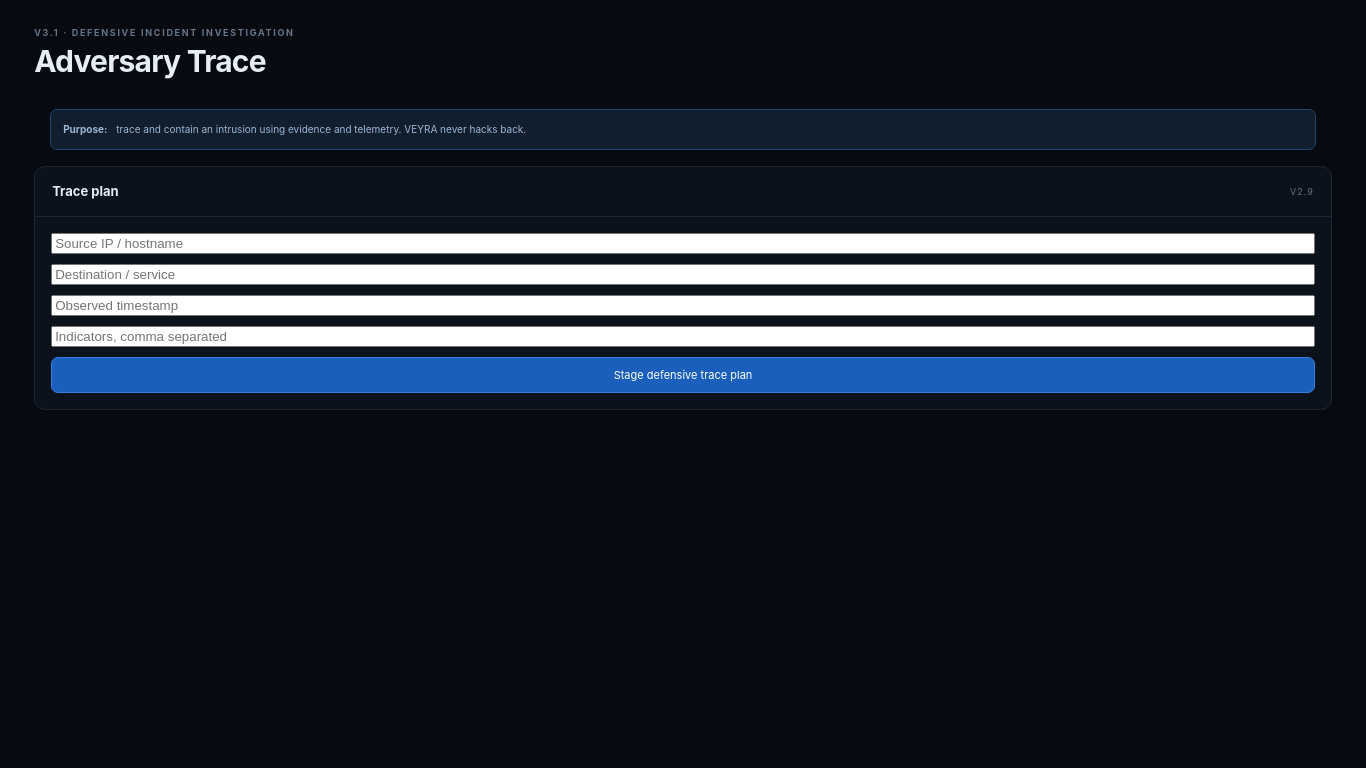
Test case: V31AdversaryTraceView › stages a trace plan on button click
The width and height of the screenshot is (1366, 768).
Type "10.0.0.5" into the field with placeholder "Source IP / hostname" at x=683, y=243, box [51,233,1315,254]
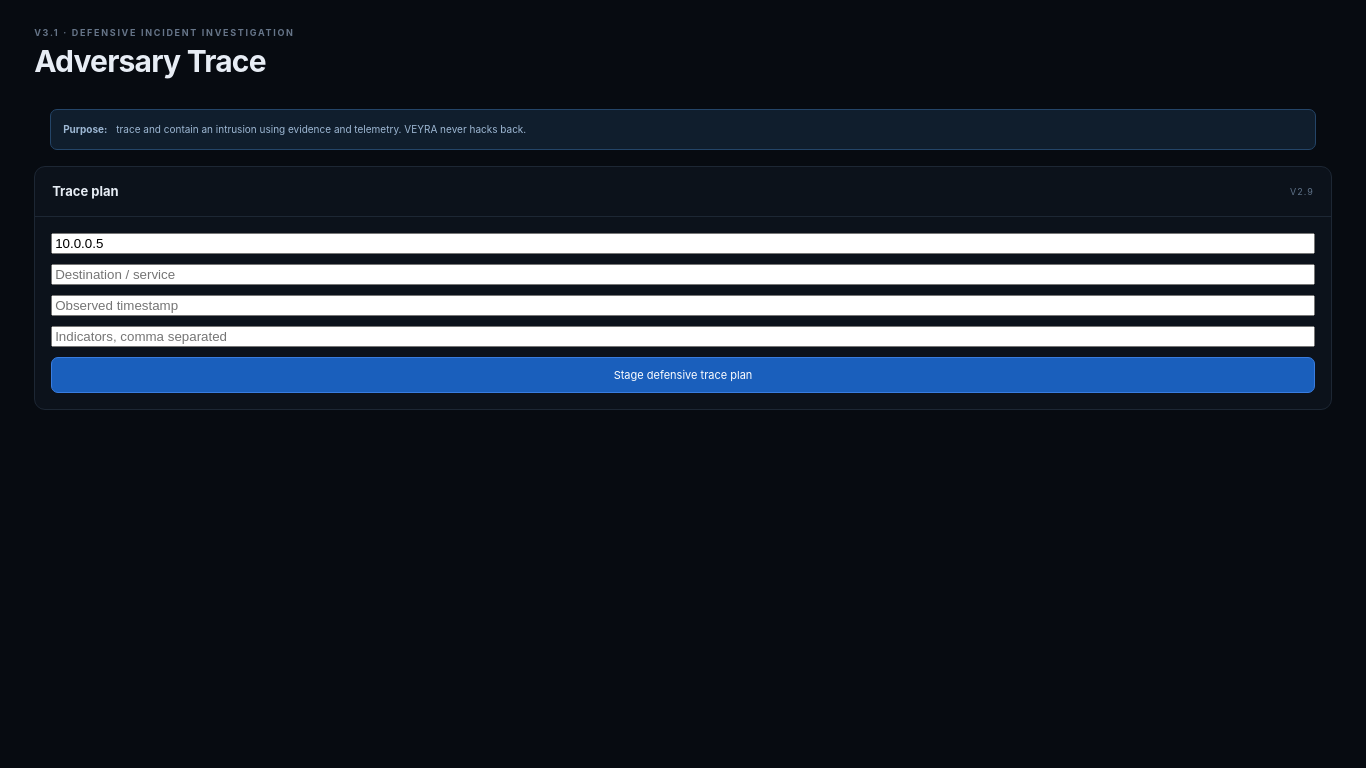
Click the button "Stage defensive trace plan" at x=683, y=375, box [51,357,1315,393]
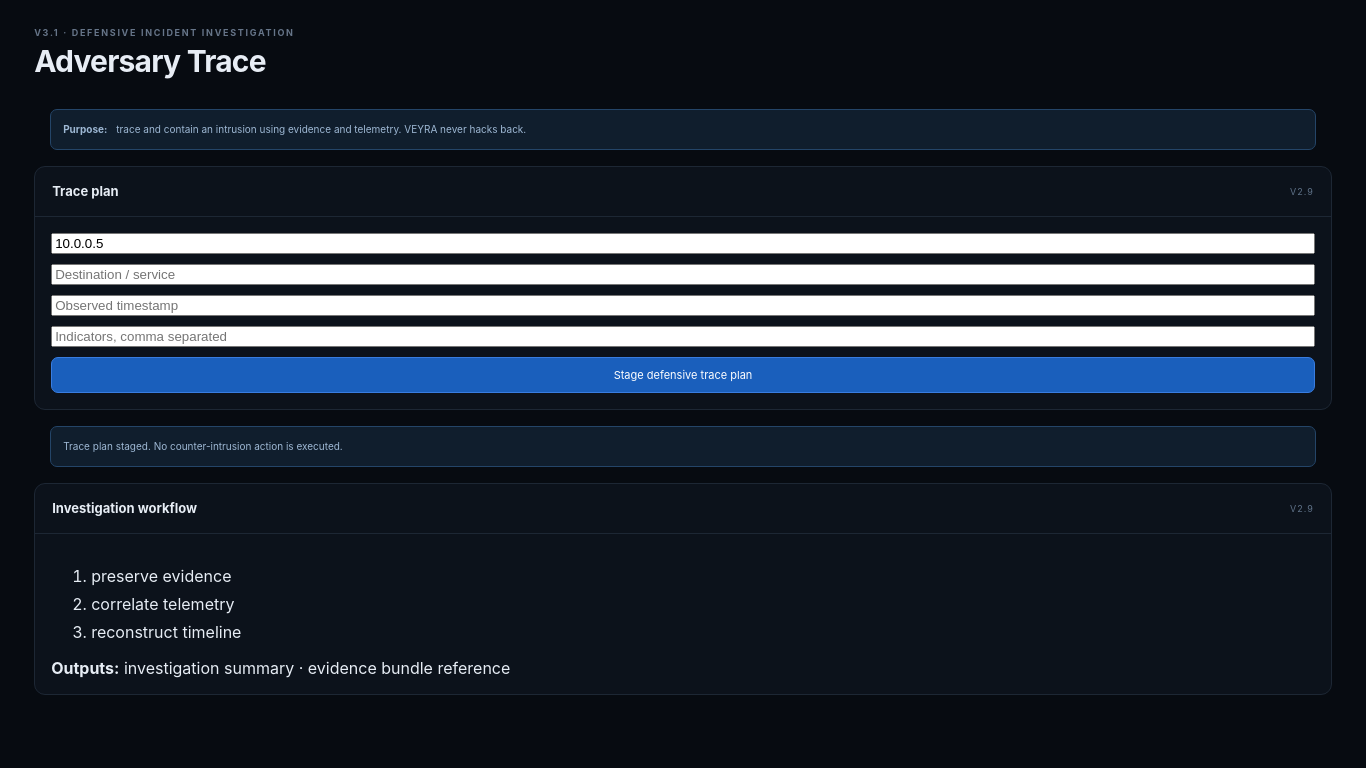
Expected: the text "Trace plan staged. No counter-intrusion action is executed." is shown, [50,426,1316,467]
